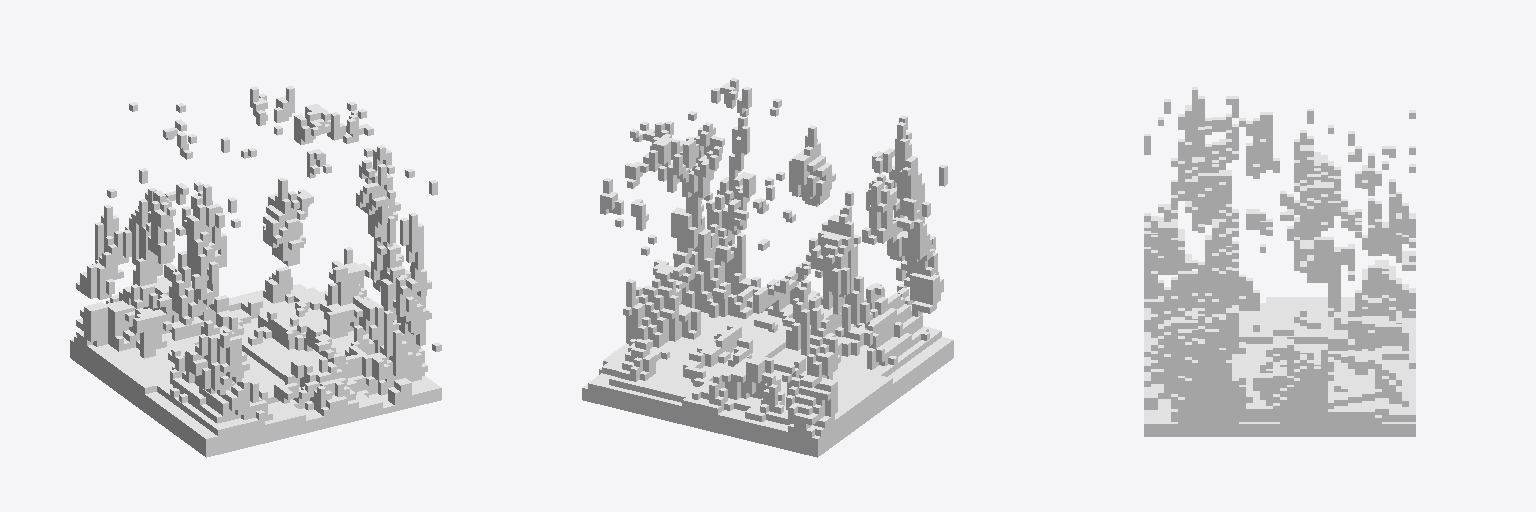
The model's file is huo.obj.
3 renders of one model, left to right at view 1: azimuth 30°, elevation 25°; view 2: azimuth 150°, elevation 25°; view 3: azimuth 270°, elevation 25°, orthographic.
Visible parts, largest first — view 1: huo; view 2: huo; view 3: huo.
Boxes of the visible parts, x1,y1,x2,y2 form: huo: [70, 86, 441, 457]; huo: [582, 78, 953, 457]; huo: [1144, 87, 1415, 436].
Bounding box in the file's own units: 40 × 40 × 40.